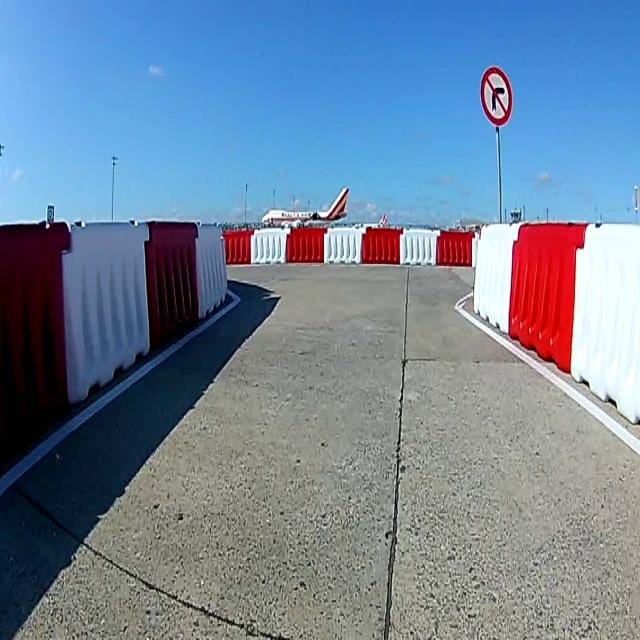sagadonulmez: (480, 66, 514, 126)
